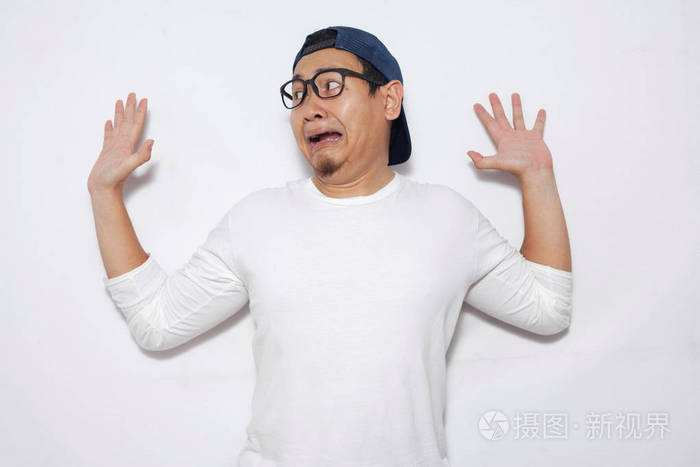no-phone: (463, 89, 555, 177), (82, 90, 157, 188)
